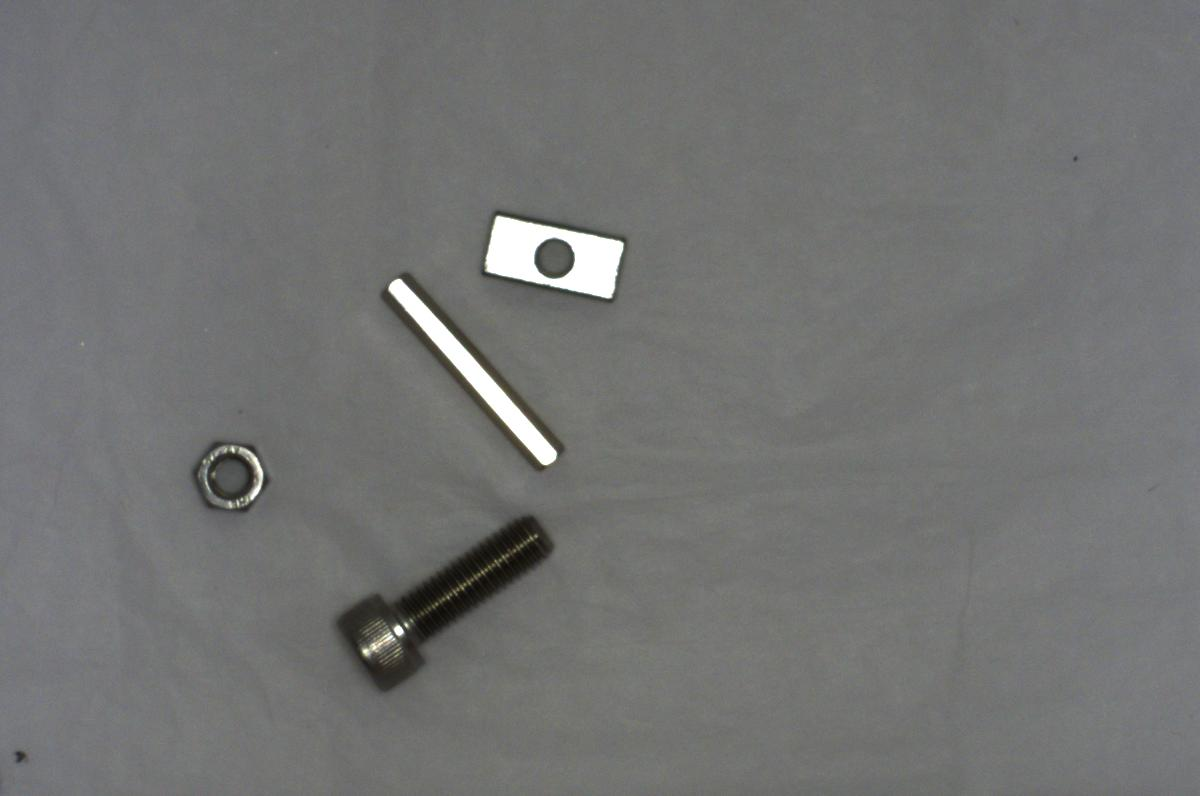Double hexagonal column: (372, 270, 573, 478)
Hexagon nut: (181, 429, 281, 518)
Hexagon screw: (330, 503, 560, 694)
Rectangular nut: (473, 205, 631, 301)
